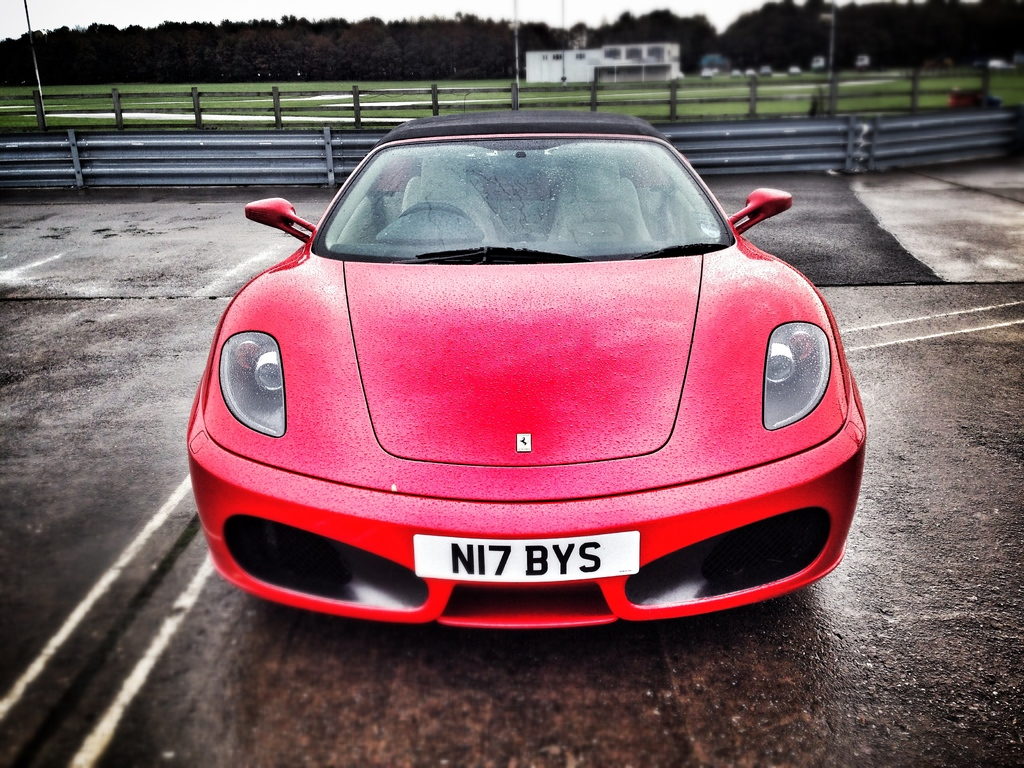Car: (179, 120, 849, 629)
